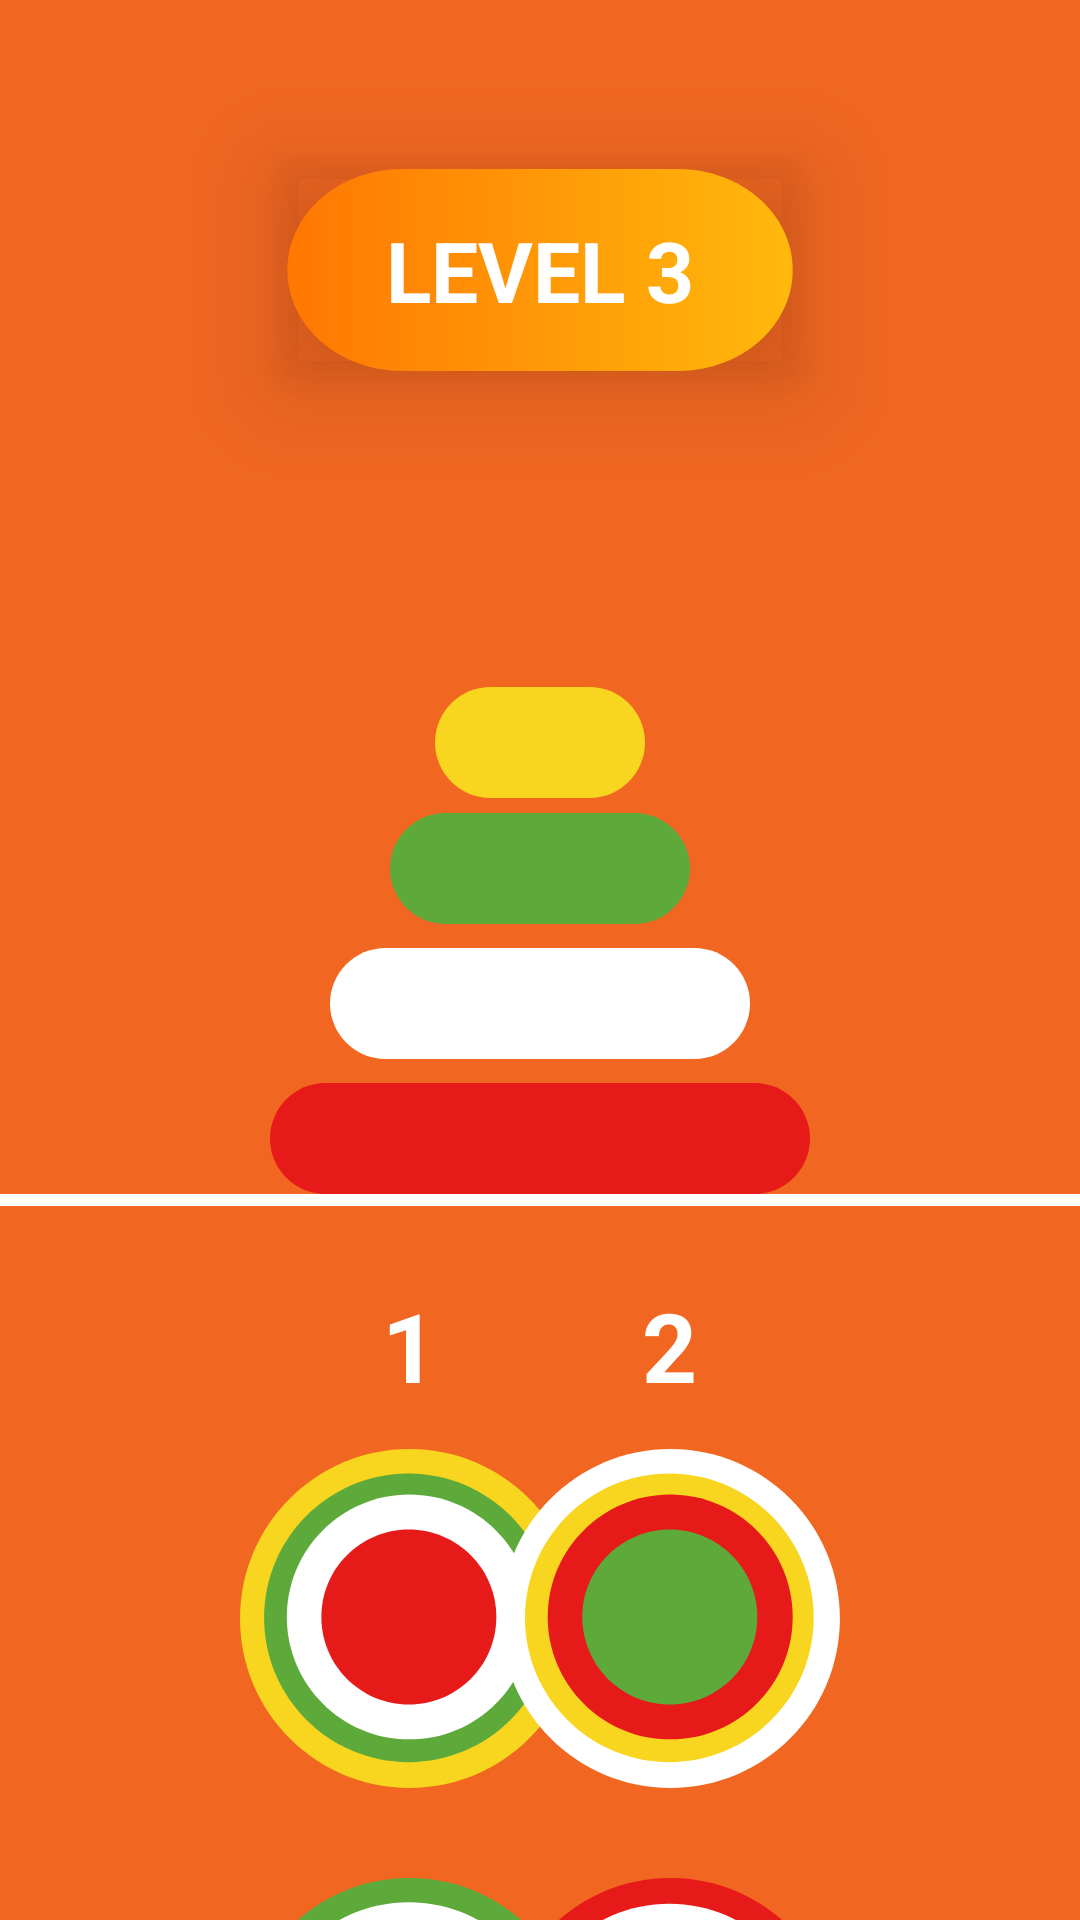

Icons on this 1080*1920 Android screen, each with the point to tap as [x,y]:
second level: [669,1618]
